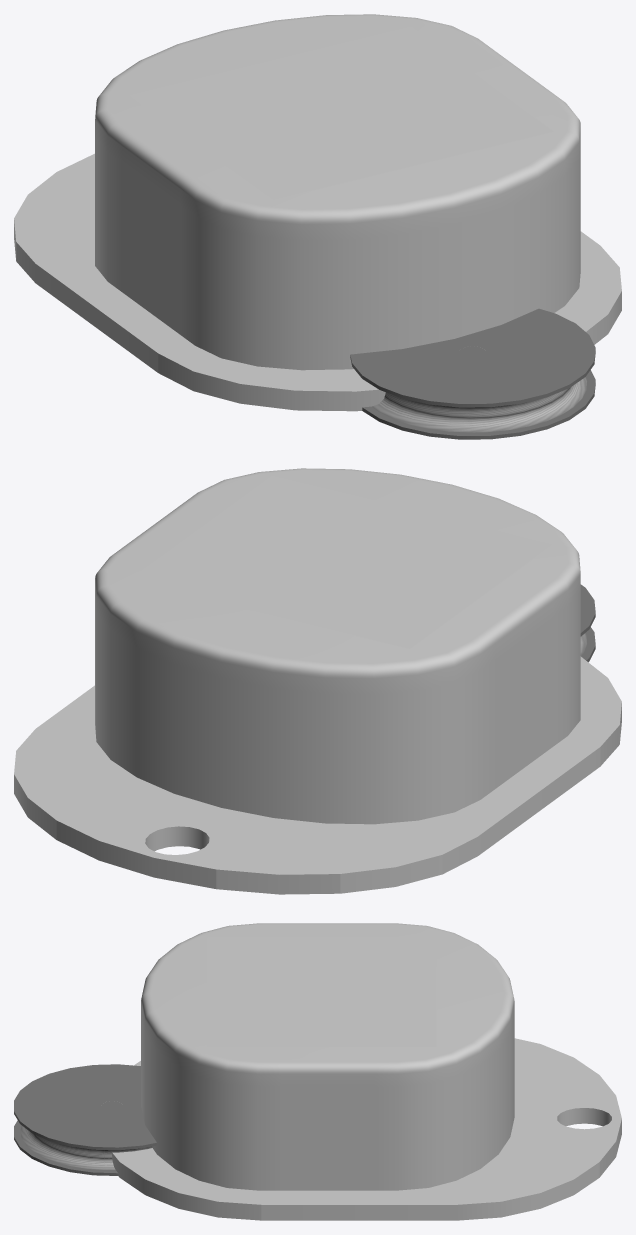
The model's file is Speed controller.fbx.
3 renders of one model, top to bottom at view 1: azimuth 30°, elevation 25°; view 2: azimuth 150°, elevation 25°; view 3: azimuth 270°, elevation 25°, orthographic. The views are drawn at different scales.
Visible parts, largest first — view 1: Loft001, Object6, Object9, Object8, Object11, Object7; view 2: Loft001; view 3: Loft001, Object6, Object9, Object8, Object11.
Part boxes in pixels (x1=…): Loft001: x1=14, y1=14, x2=621, y2=411; Object6: x1=350, y1=308, x2=595, y2=403; Object9: x1=372, y1=377, x2=586, y2=432; Object8: x1=362, y1=370, x2=595, y2=435; Object11: x1=350, y1=351, x2=595, y2=407; Object7: x1=362, y1=383, x2=595, y2=439; Loft001: x1=14, y1=468, x2=621, y2=894; Loft001: x1=112, y1=923, x2=621, y2=1220; Object6: x1=14, y1=1064, x2=156, y2=1147; Object9: x1=20, y1=1125, x2=152, y2=1169; Object8: x1=14, y1=1120, x2=117, y2=1173; Object11: x1=14, y1=1111, x2=156, y2=1150.
Bounding box in the file's own units: 48.84 × 18.79 × 72.69.
